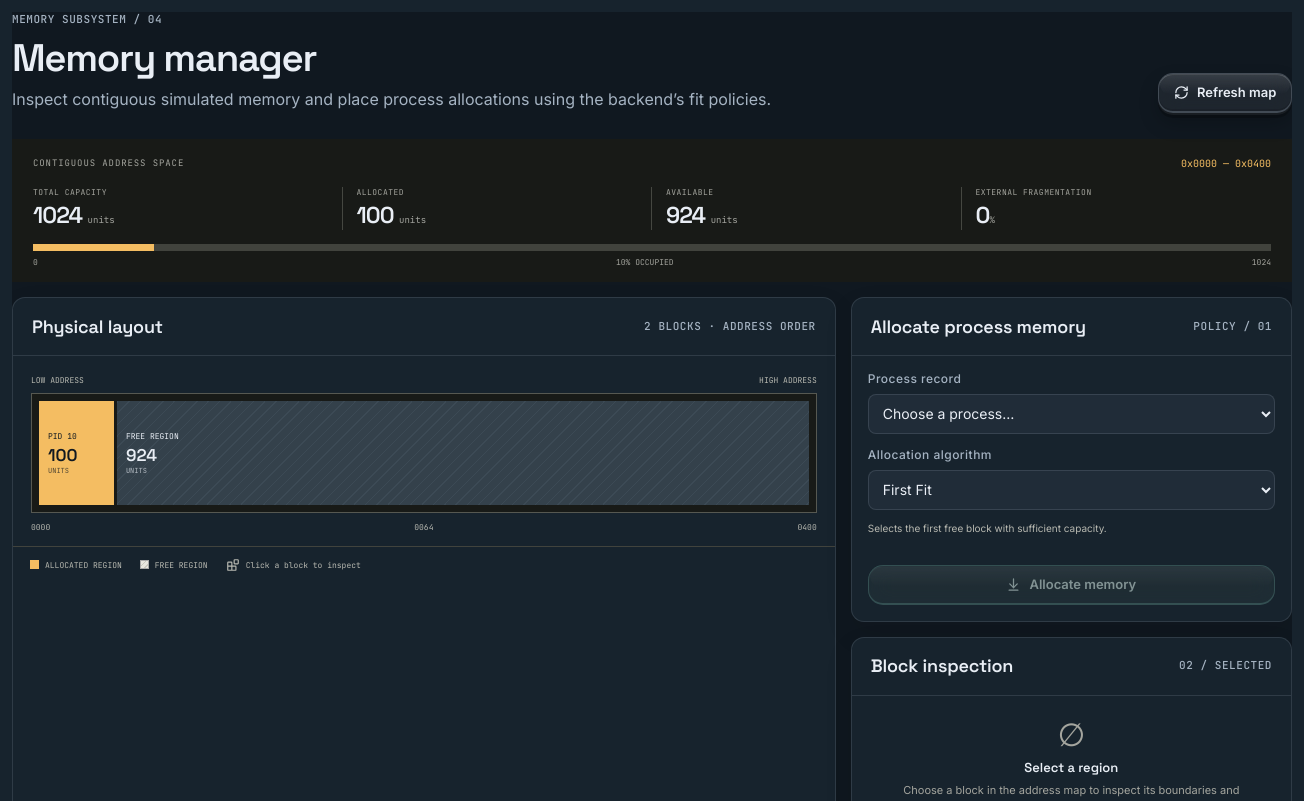
it: core workspace pages › renders backend memory blocks and selects an allocation for inspection
Click the list item with aria-label "PID 10 block, address 0, size 100".
click(76, 453)  # box [39,401,114,505]
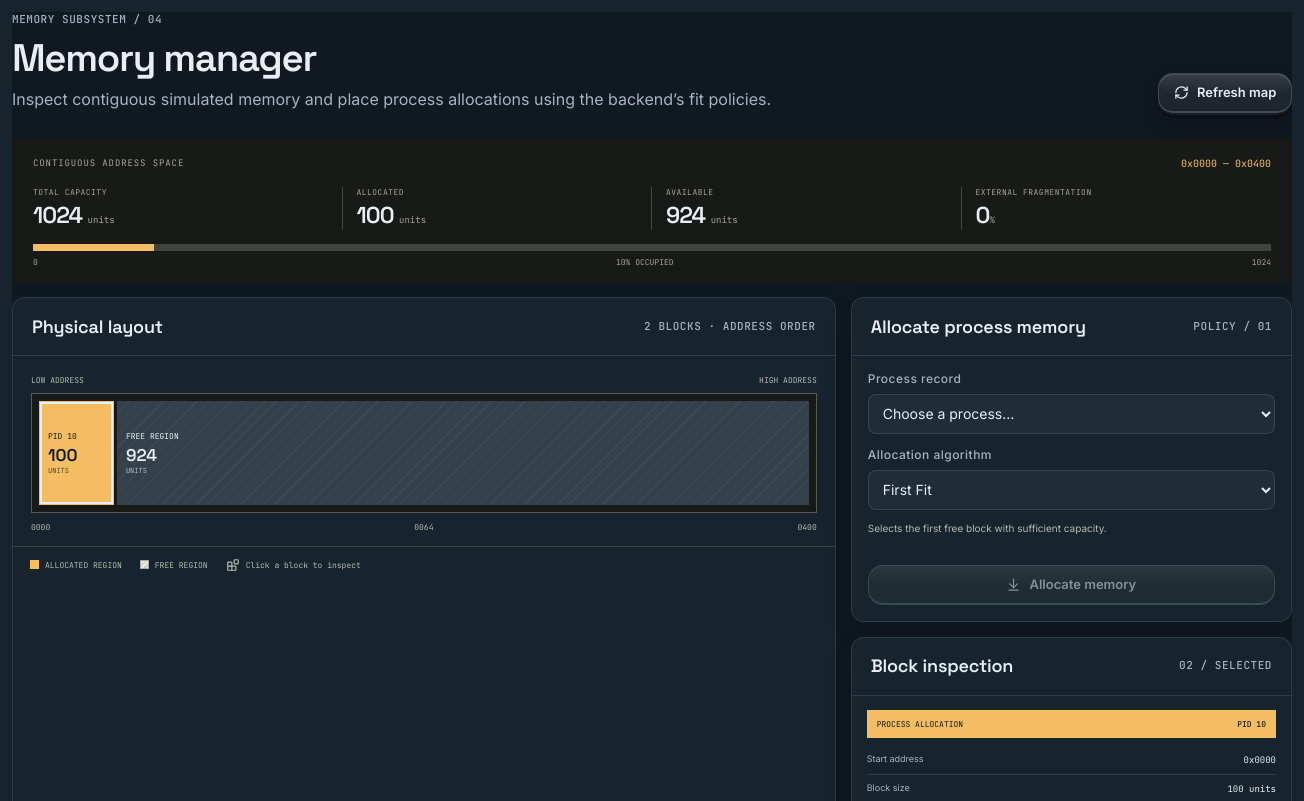
Expected: the text "PROCESS ALLOCATION" is shown, [877,719,963,729]
